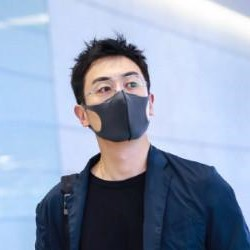mask: (78, 90, 154, 143)
